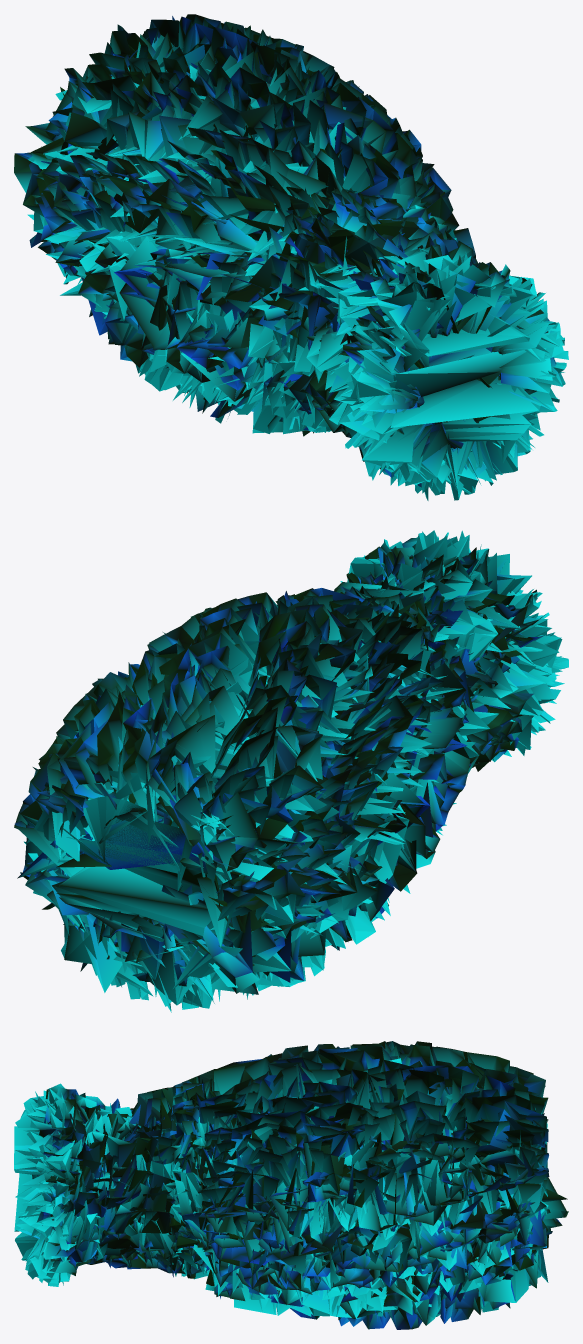
Rendered from lamp_shade_10_final500.obj.
3 renders of one model, top to bottom at view 1: azimuth 30°, elevation 25°; view 2: azimuth 150°, elevation 25°; view 3: azimuth 270°, elevation 25°, orthographic. The views are drawn at different scales.
Bounding box in the file's own units: 1.04 × 1.03 × 1.99.
